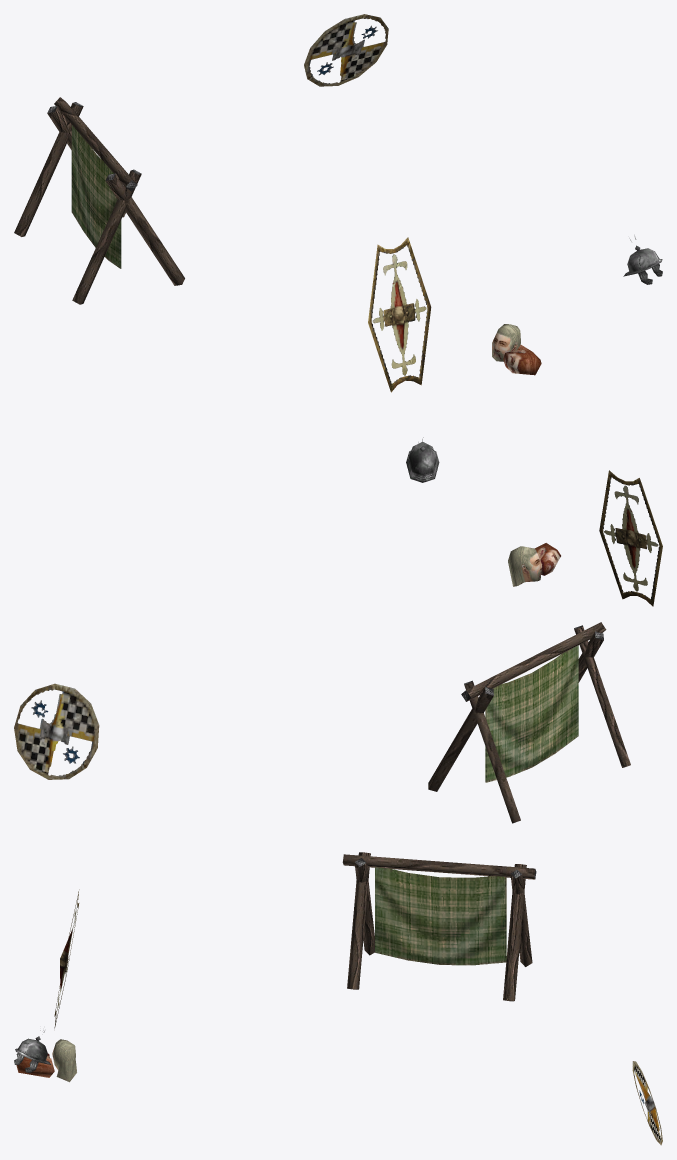
The model's file is celt_house_d_color.dae.
3 views of the same model, one above another, from view 1: azimuth 30°, elevation 25°; view 2: azimuth 150°, elevation 25°; view 3: azimuth 270°, elevation 25° (orthographic). The views are drawn at different scales.
Visible parts, largest first — view 1: Plane09-Pivot; view 2: Plane09-Pivot; view 3: Plane09-Pivot.
Boxes of the visible parts, box(x1,y1,x2,y2) form: Plane09-Pivot: box(14, 14, 662, 392); Plane09-Pivot: box(14, 437, 662, 823); Plane09-Pivot: box(14, 852, 662, 1145).
Size of the model in its own units: 9.45 by 12.3 by 2.81.
